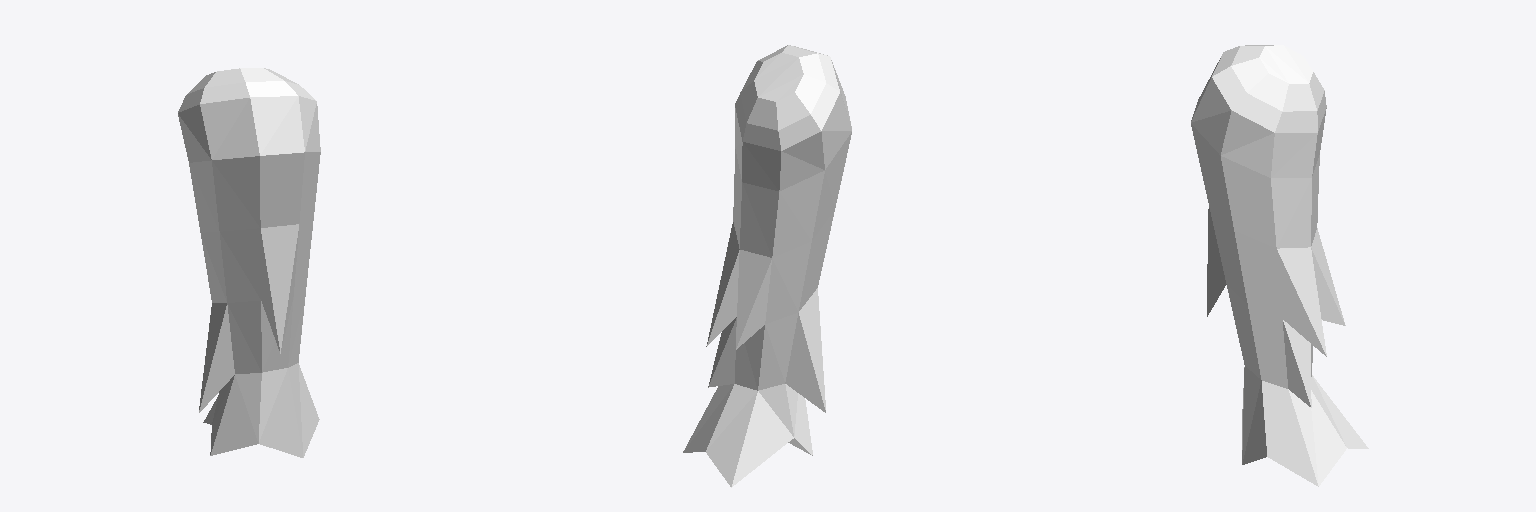
Rendered from LowLegR.obj.
The picture shows the model from 3 angles: view 1: azimuth 30°, elevation 25°; view 2: azimuth 150°, elevation 25°; view 3: azimuth 270°, elevation 25°; orthographic projection.
Visible parts, largest first — view 1: Lowerlegr1; view 2: Lowerlegr1; view 3: Lowerlegr1.
Boxes of the visible parts, box(x1,y1,x2,y2) form: Lowerlegr1: box(178, 68, 320, 457); Lowerlegr1: box(683, 45, 851, 487); Lowerlegr1: box(1191, 45, 1368, 486).
Bounding box in the file's own units: 1.37 × 3.96 × 1.61.